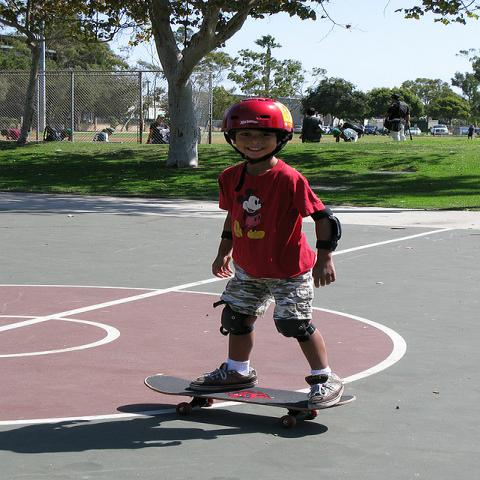car: (429, 123, 452, 136), (406, 127, 421, 136), (293, 125, 303, 133)
